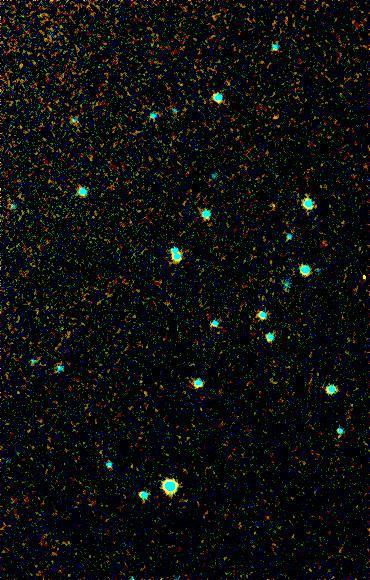star: (259, 102, 289, 132)
